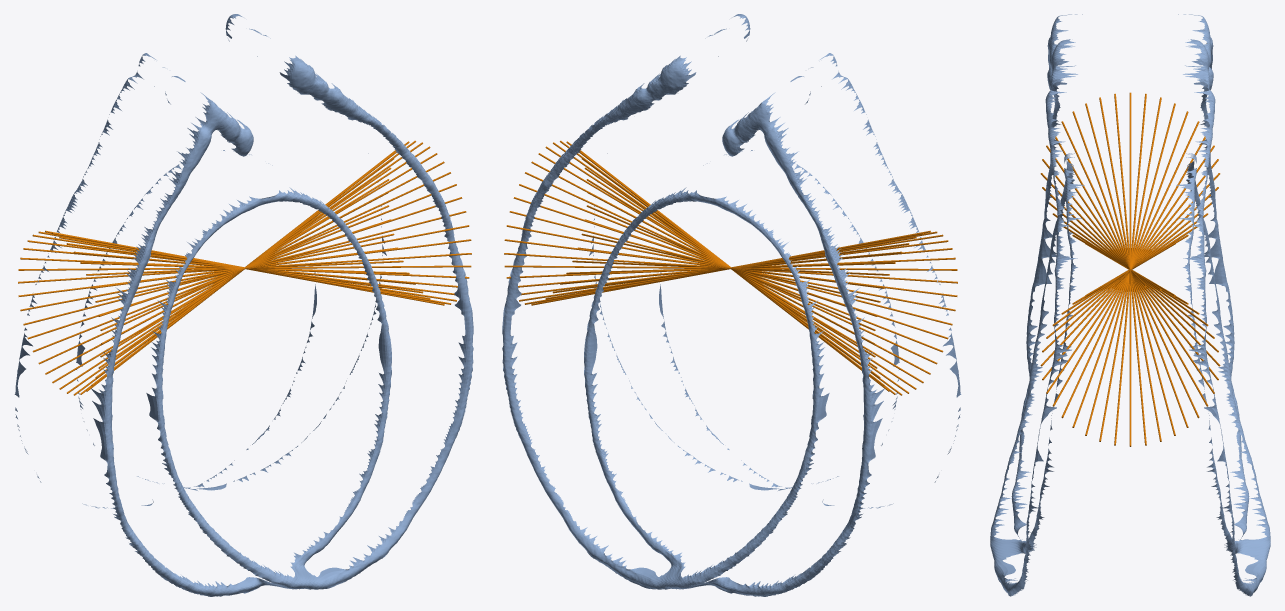
File: A60024615_6150-37-520-2144_DigitalTwin.glb
3 renders of one model, left to right at view 1: azimuth 30°, elevation 25°; view 2: azimuth 150°, elevation 25°; view 3: azimuth 270°, elevation 25°, orthographic. The views are drawn at different scales.
Parts seen in each view (by area): view 1: world; view 2: world; view 3: world.
Part boxes in pixels (x1,y1,x2,y2): world: (14, 14, 473, 596); world: (502, 14, 961, 596); world: (990, 14, 1270, 596).
Size of the model in its own units: 986 by 1286 by 609.
